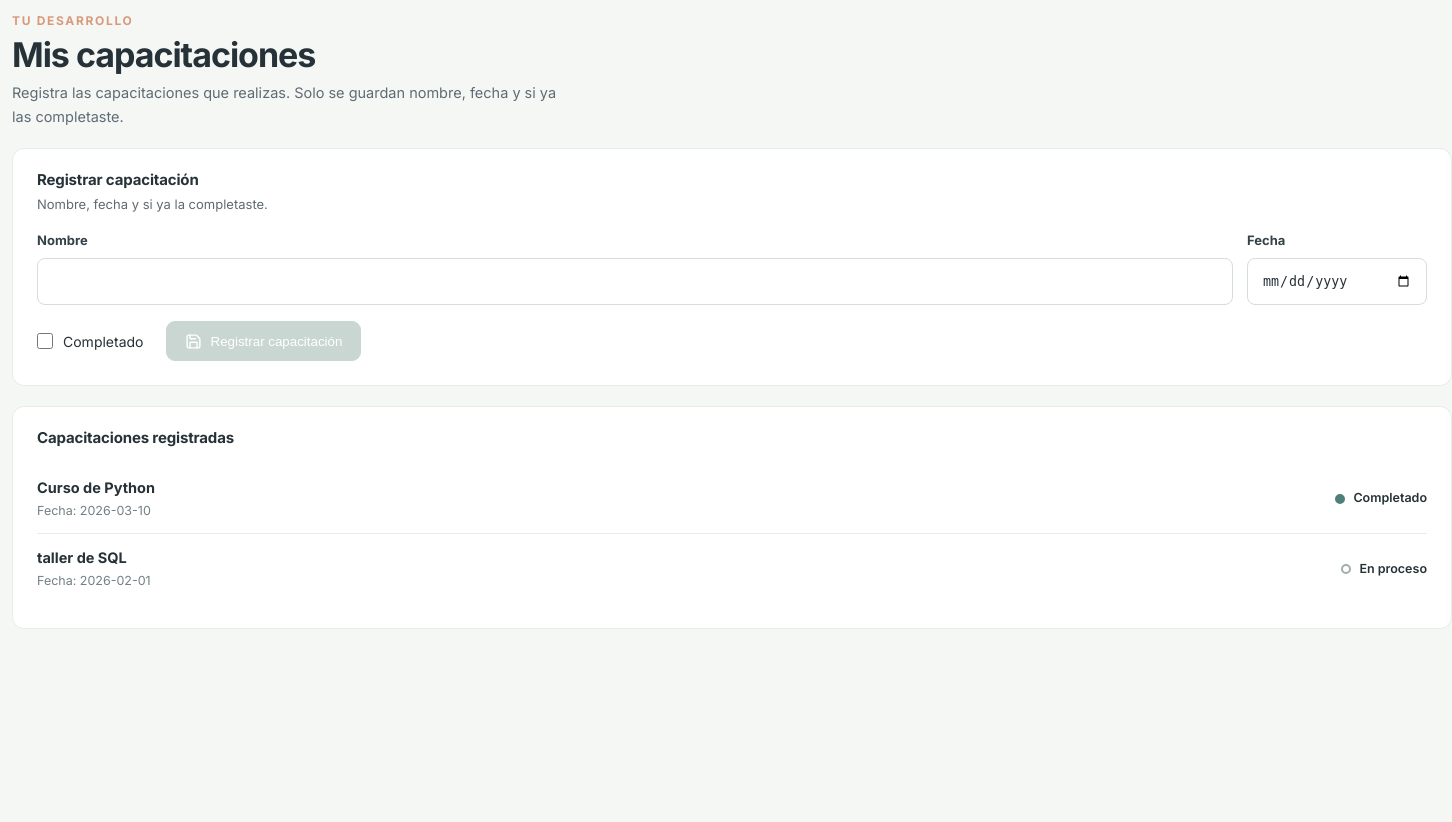
MisCapacitaciones — formulario de registro › exige la fecha antes de enviar
Expected: the text "Curso de Python" is shown, [37,479,155,496]
Type "Curso de Python" into the field labelled "Nombre". click: (635, 282)
box: [37,258,1233,305]
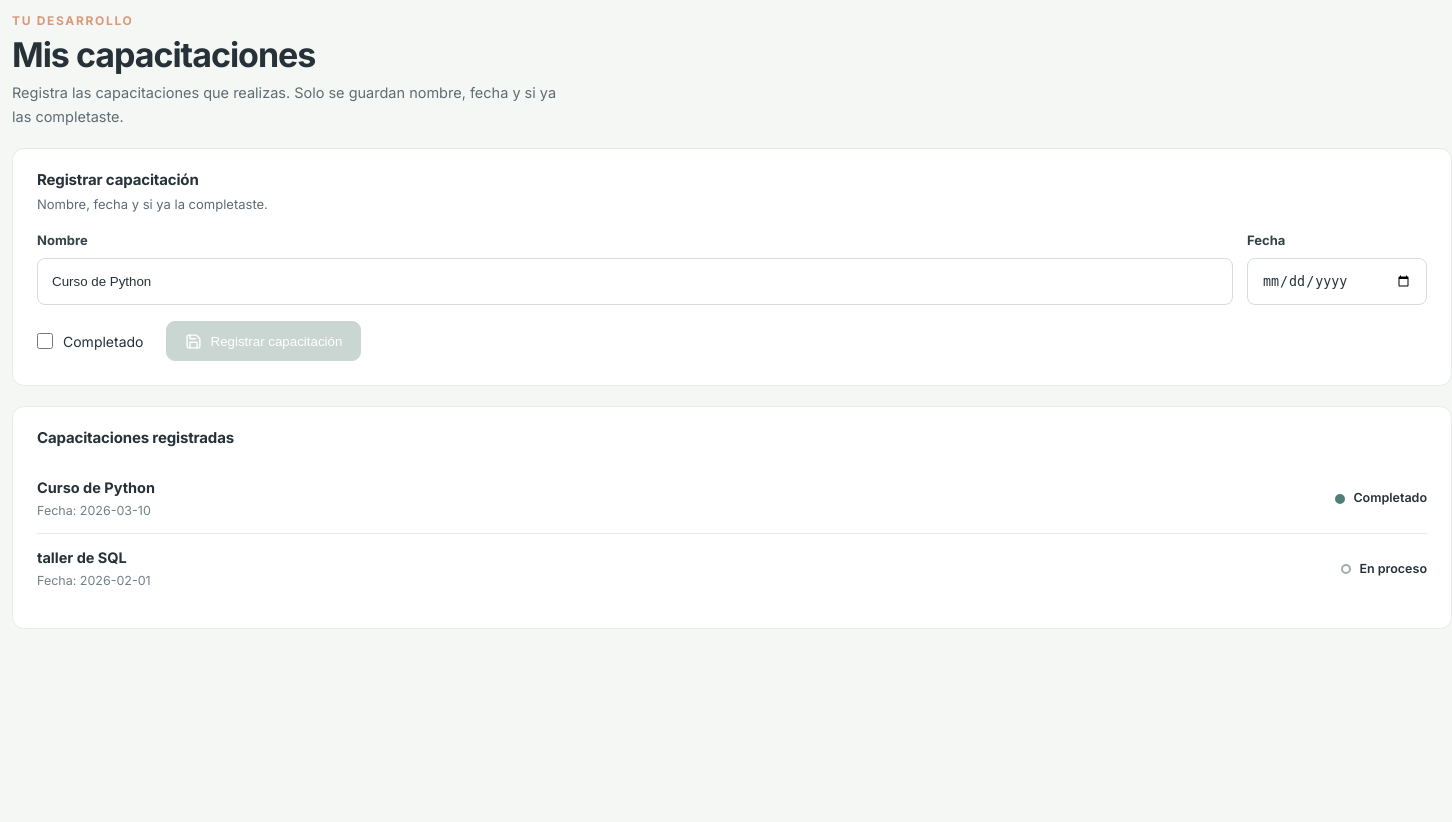
Click the button "Registrar capacitación". click: (263, 341)
box: [166,321,361,361]
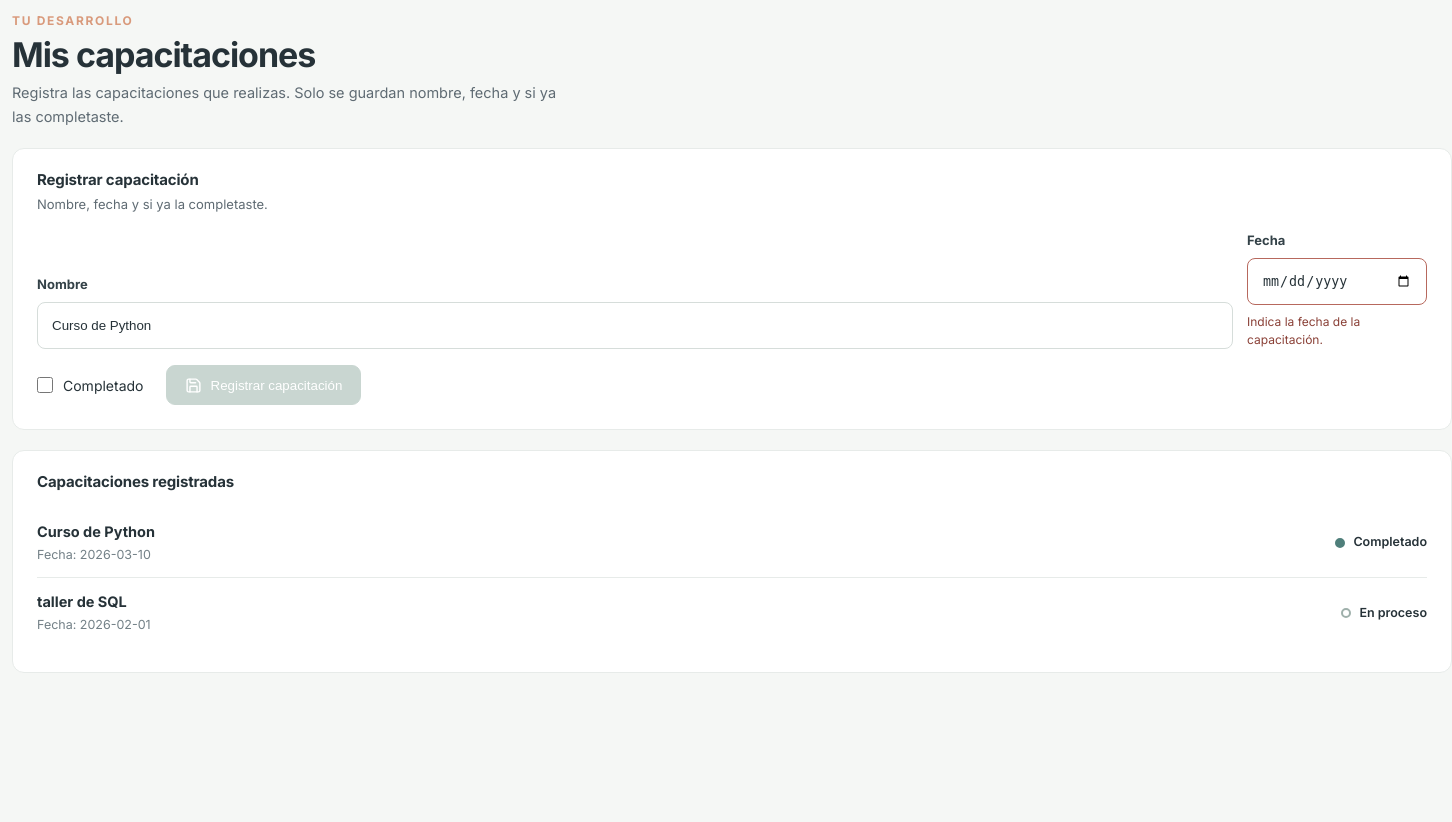
Expected: the text "Indica la fecha de la capacitación." is shown, [1247,314,1360,347]
